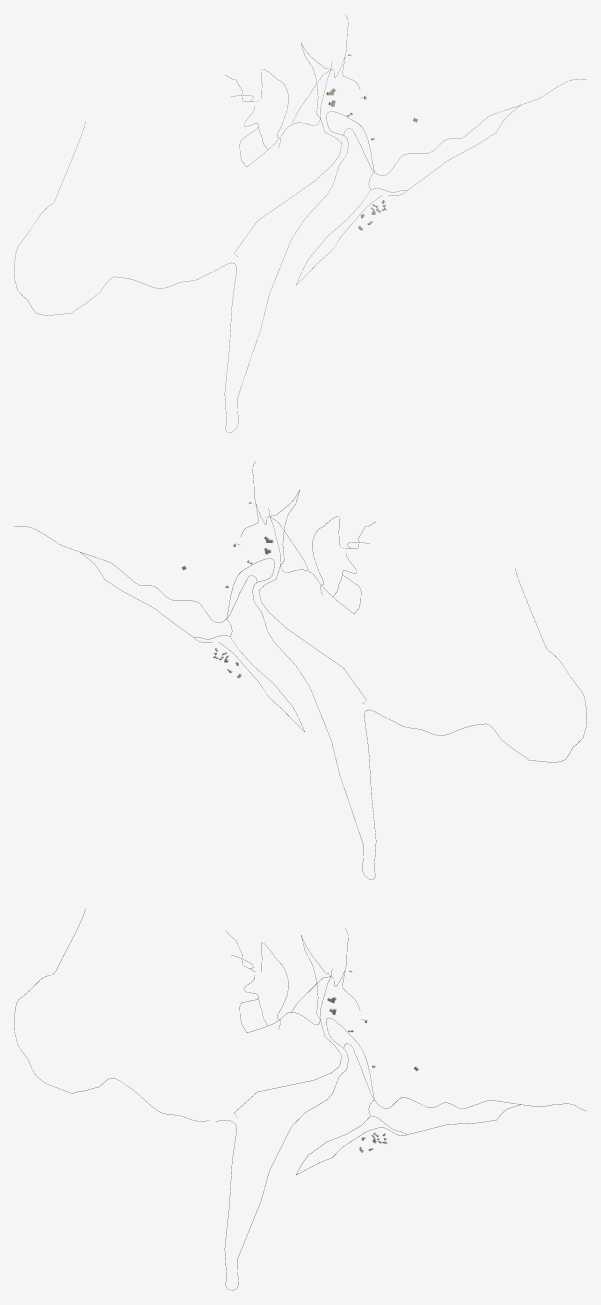
File: historic-palestine-16_39_3578_3330.glb
3 views of the same model, one above another, from view 1: azimuth 30°, elevation 25°; view 2: azimuth 150°, elevation 25°; view 3: azimuth 330°, elevation 25° (orthographic).
Parts seen in each view (by area): view 1: Road; view 2: Road; view 3: Road.
Part boxes in pixels (box(x1,y1,x2,y2)): Road: box(14, 79, 586, 432); Road: box(14, 526, 586, 879); Road: box(14, 909, 586, 1290).
Bounding box in the file's own units: 2627 × 1710 × 8.7.
